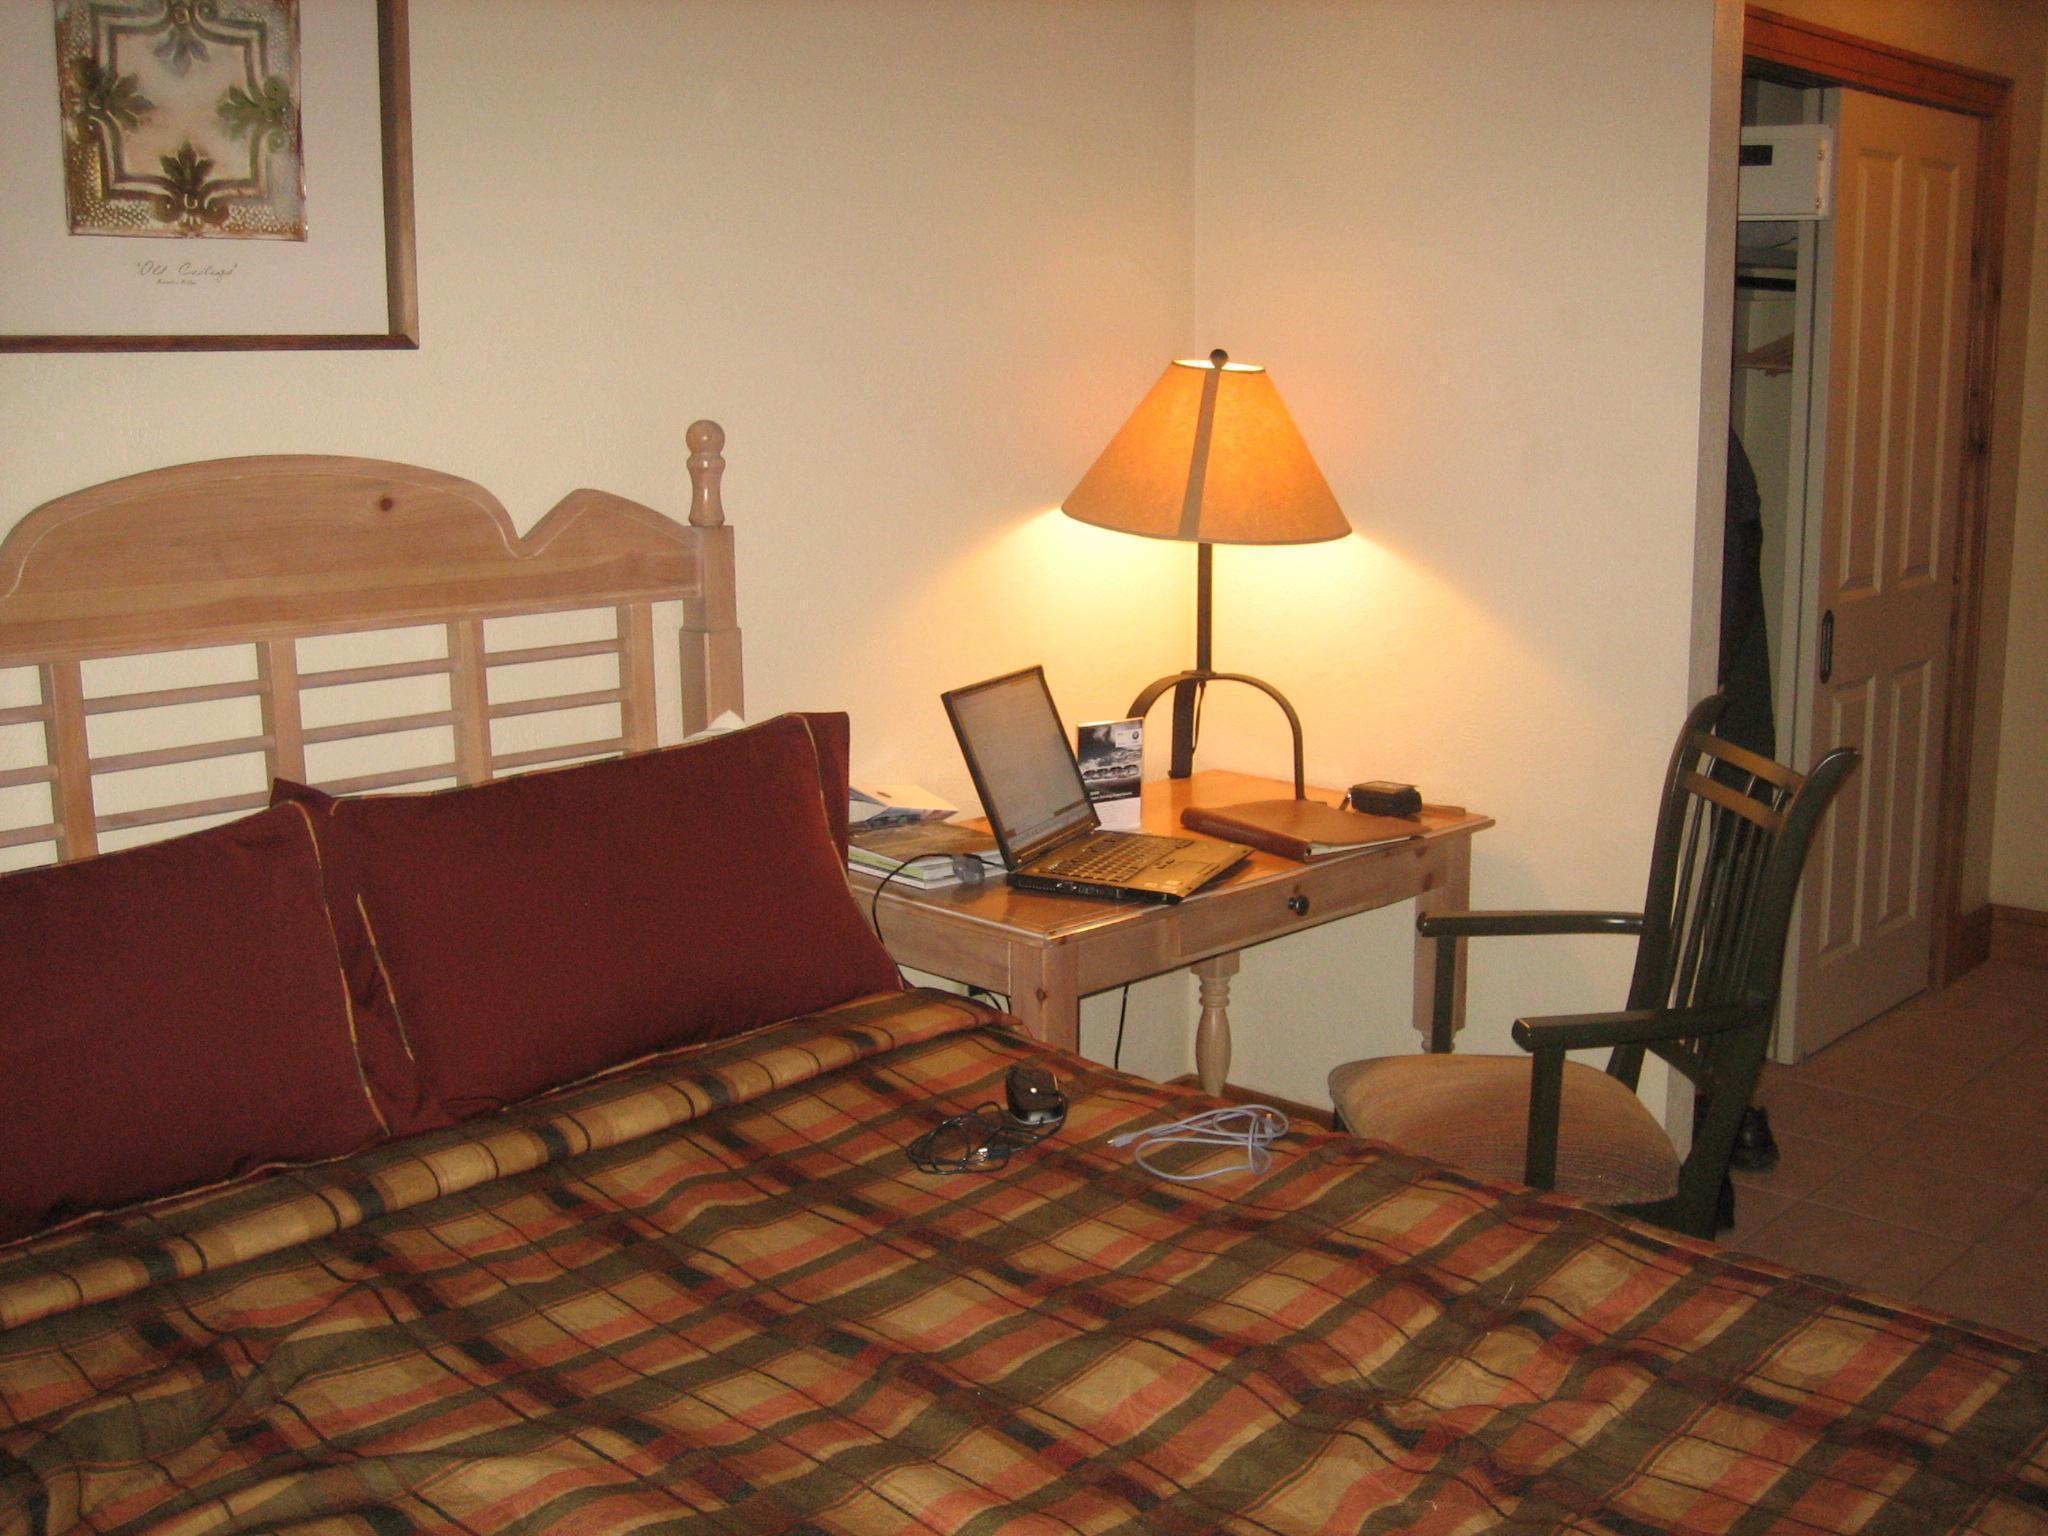Cama: (15, 407, 2033, 1521)
Puerta: (1803, 77, 1951, 1050)
